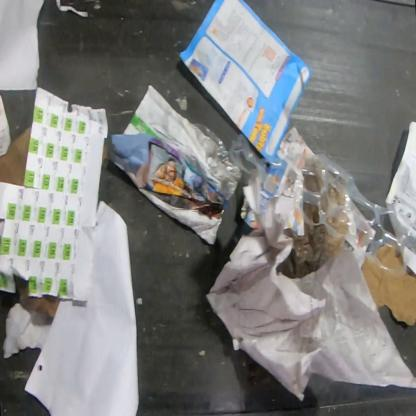cardboard: (362, 258, 416, 327), (14, 274, 61, 320), (0, 126, 32, 187)
soft_plastic: (228, 133, 409, 279), (190, 122, 242, 203), (277, 223, 345, 279), (326, 218, 348, 234), (304, 202, 319, 224), (328, 186, 345, 205), (304, 175, 320, 193)
